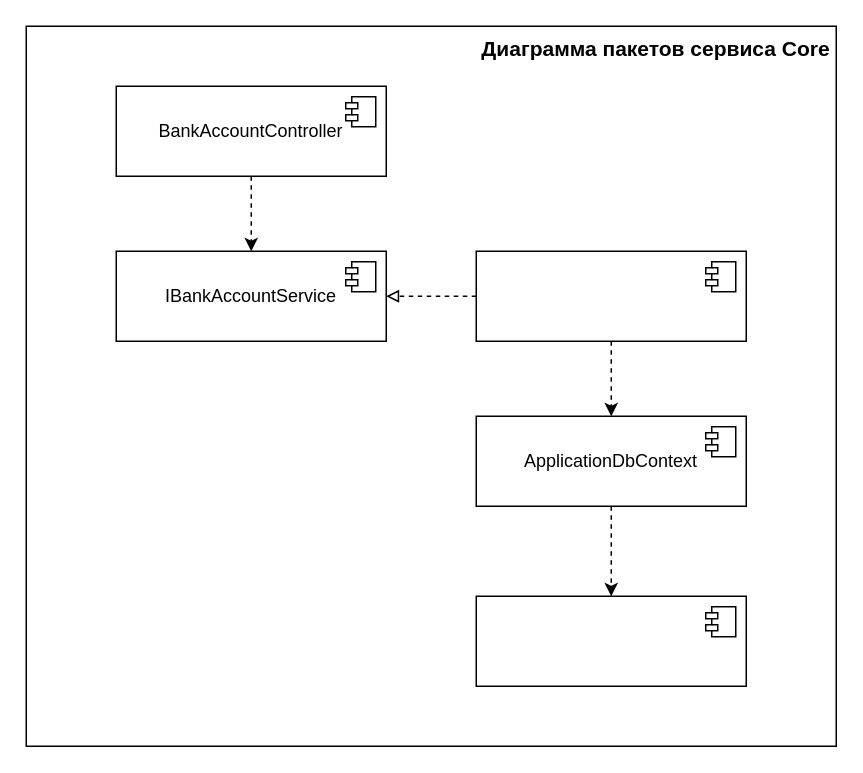
The diagram is 863 pixels wide and 773 high, and some of its shapes have lost their labels. Here are the shapes that lost their labels. From the top down, the centre of each, then its label:
At (x=610, y=295): "BankAccountService".
At (x=610, y=640): "Database".
